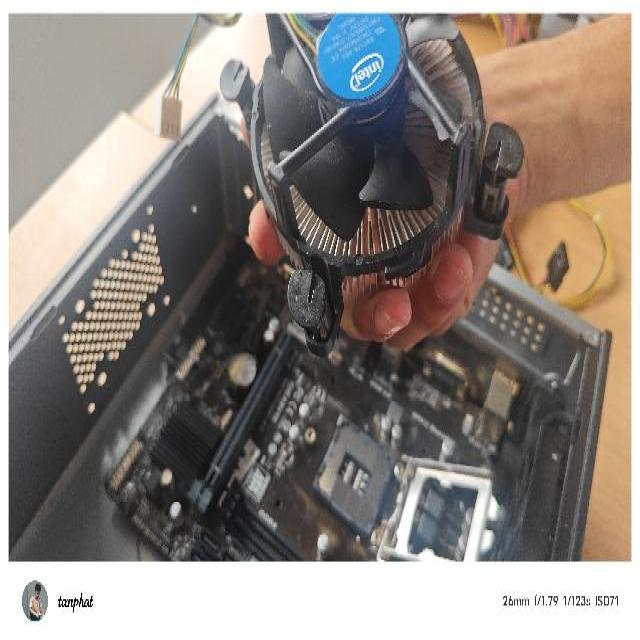CPU_Fan: (175, 12, 524, 364)
